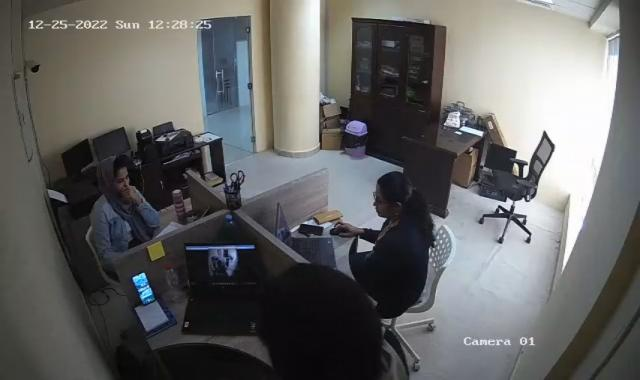no_hairnet: (372, 171, 420, 222), (100, 154, 130, 187)
